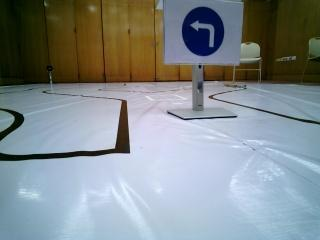left: (179, 3, 235, 61)
